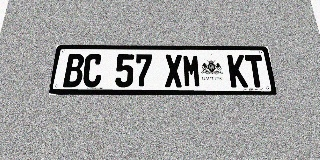5: (115, 54, 134, 87)
7: (134, 54, 152, 87)
B: (63, 54, 85, 87)
C: (82, 54, 103, 87)
K: (227, 55, 248, 87)
M: (182, 54, 201, 87)
T: (244, 55, 266, 87)
X: (165, 54, 183, 87)
